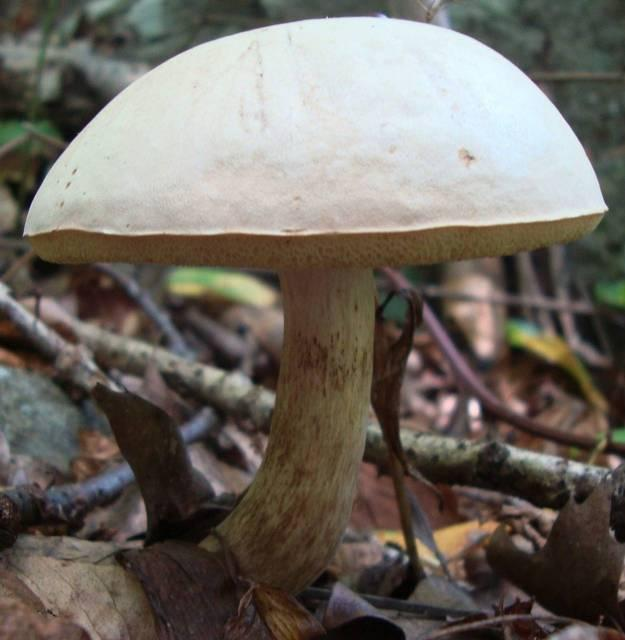edible_mushroom: (21, 14, 609, 600)
